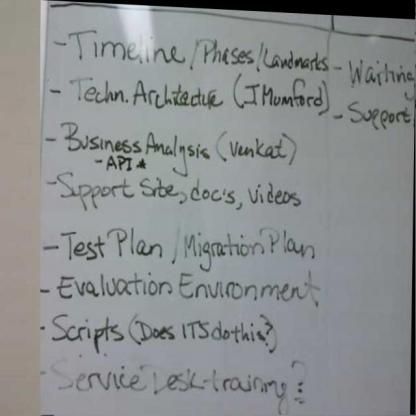Handwritten text: (46, 354, 301, 416), (52, 170, 299, 214), (59, 120, 212, 171), (178, 221, 318, 272), (60, 72, 228, 111), (63, 26, 186, 70), (134, 313, 268, 348), (51, 224, 165, 265), (50, 309, 129, 353), (238, 77, 328, 115), (341, 51, 413, 94), (262, 36, 328, 75), (344, 96, 408, 134), (224, 129, 291, 164), (196, 33, 254, 69)
